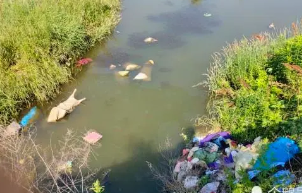garbage: (180, 134, 294, 193), (44, 92, 84, 121), (16, 101, 44, 131), (116, 62, 150, 81), (78, 131, 105, 149), (60, 158, 80, 173), (143, 35, 164, 47)
